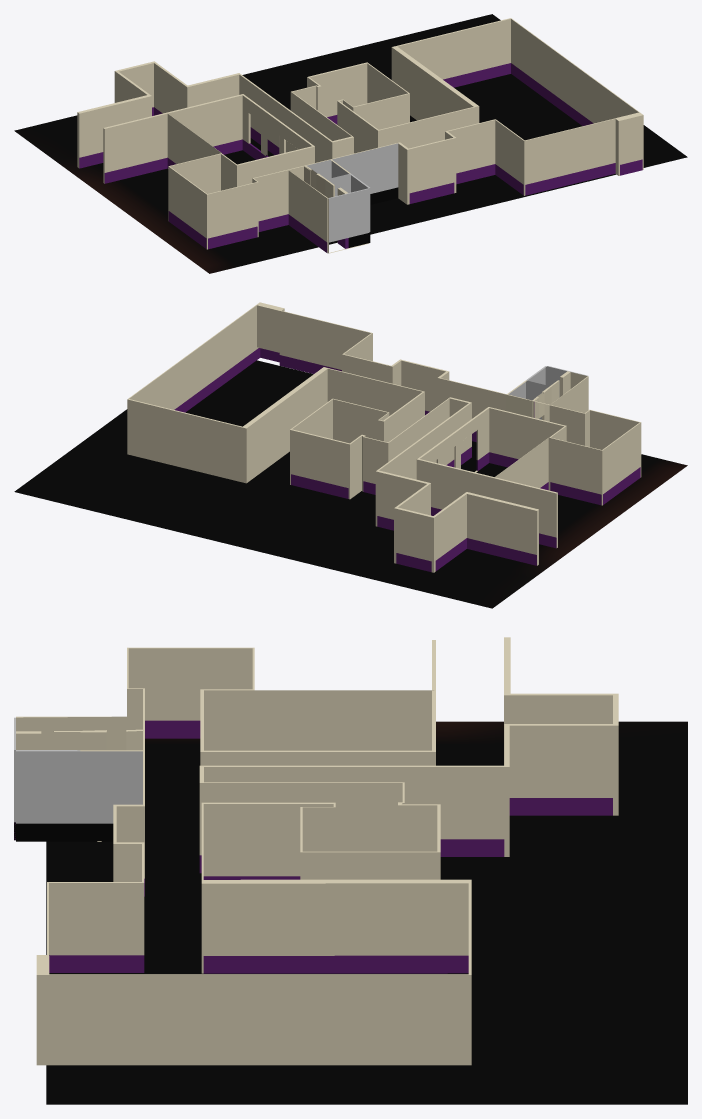
Rendered from lvlmap2 1.fbx.
3 views of the same model, one above another, from view 1: azimuth 30°, elevation 25°; view 2: azimuth 150°, elevation 25°; view 3: azimuth 270°, elevation 25° (orthographic). The views are drawn at different scales.
Parts seen in each view (by area): view 1: Cube, Plane; view 2: Cube, Plane; view 3: Cube, Plane.
Boxes of the visible parts, box(x1,y1,x2,y2) form: Cube: box(77, 18, 643, 253); Plane: box(14, 14, 687, 273); Cube: box(127, 302, 641, 572); Plane: box(14, 360, 687, 608); Cube: box(14, 637, 618, 1065); Plane: box(46, 721, 687, 1104).
Size of the model in its own units: 2134 by 239 by 1587.
